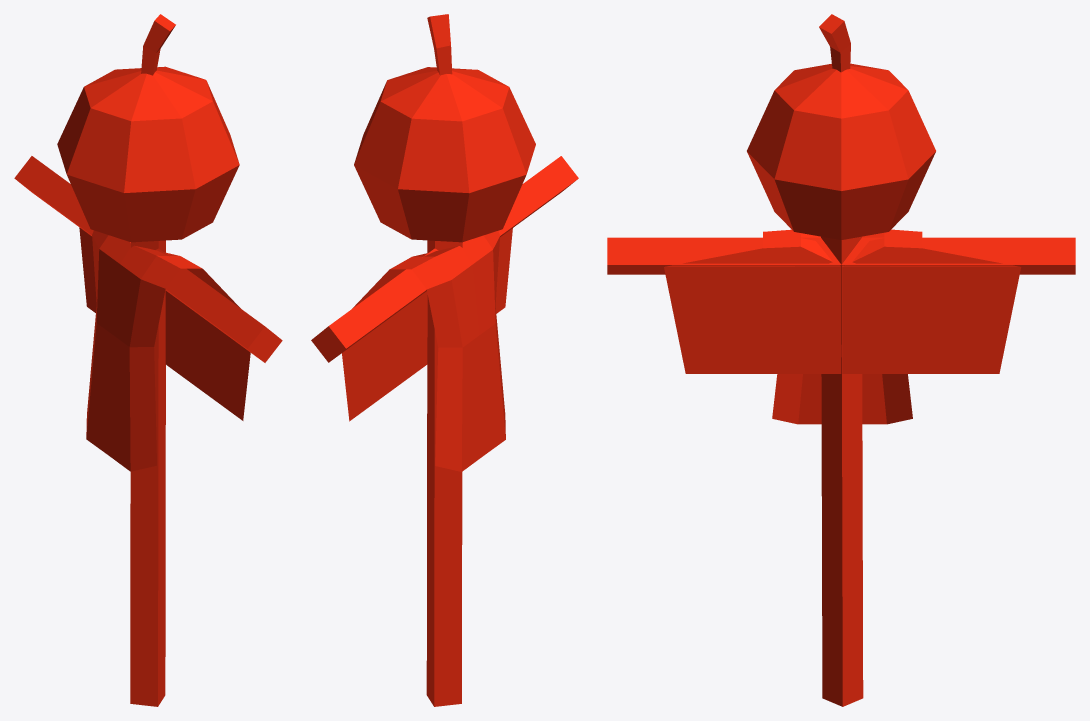
Rendered from scaredcrow.FBX.
3 views of the same model, side by side, from view 1: azimuth 30°, elevation 25°; view 2: azimuth 150°, elevation 25°; view 3: azimuth 270°, elevation 25° (orthographic).
Visible parts, largest first — view 1: Object015; view 2: Object015; view 3: Object015.
Part boxes in pixels (x1,y1,x2,y2): Object015: (14, 14, 282, 706); Object015: (311, 14, 578, 706); Object015: (607, 14, 1075, 706).
Bounding box in the file's own units: 19.42 × 77.39 × 47.94.
